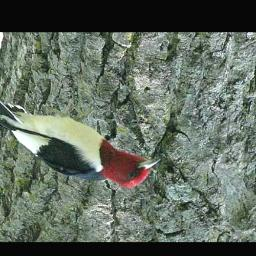Woodpecker: (0, 82, 168, 196)
